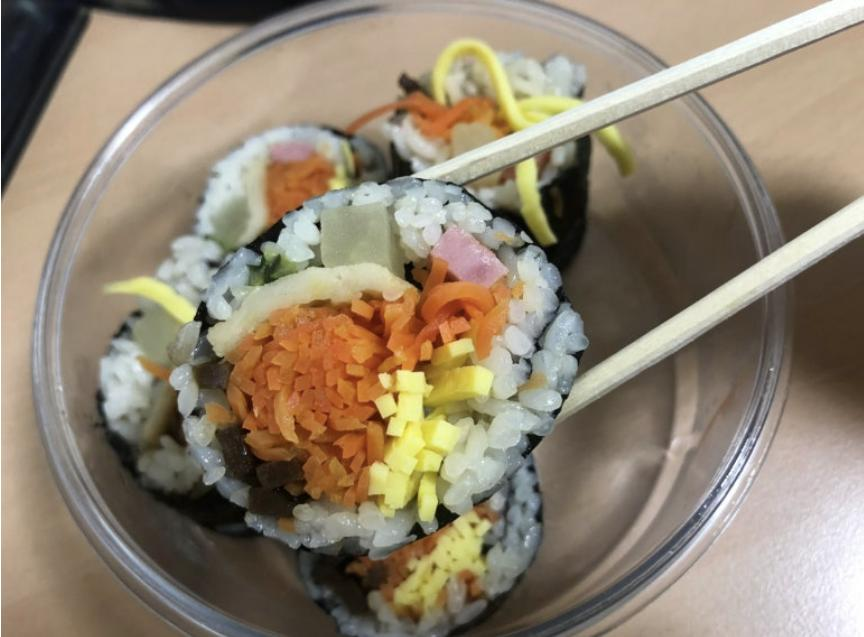Lunch Box: (33, 0, 788, 636)
